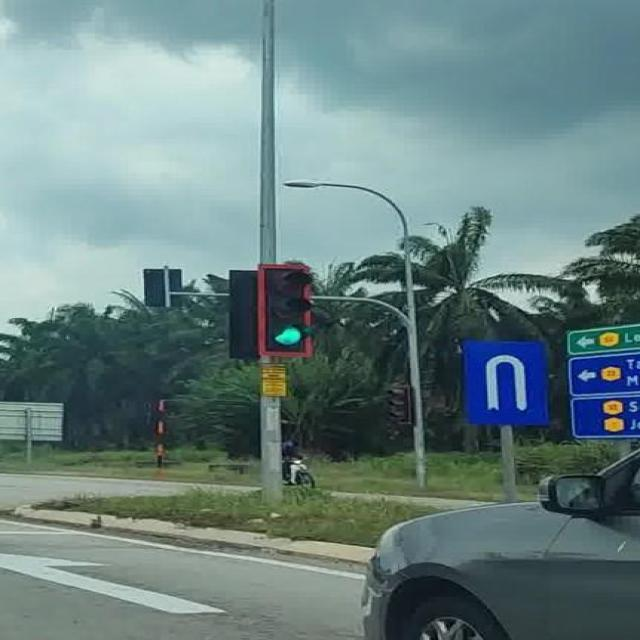green_light: (258, 262, 312, 354)
